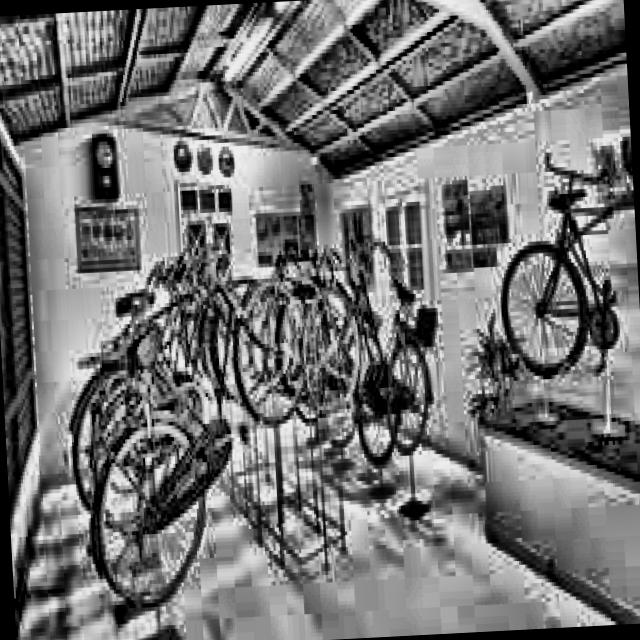bicycle: (67, 317, 334, 615), (74, 219, 302, 422), (490, 146, 627, 416), (322, 228, 444, 460)
